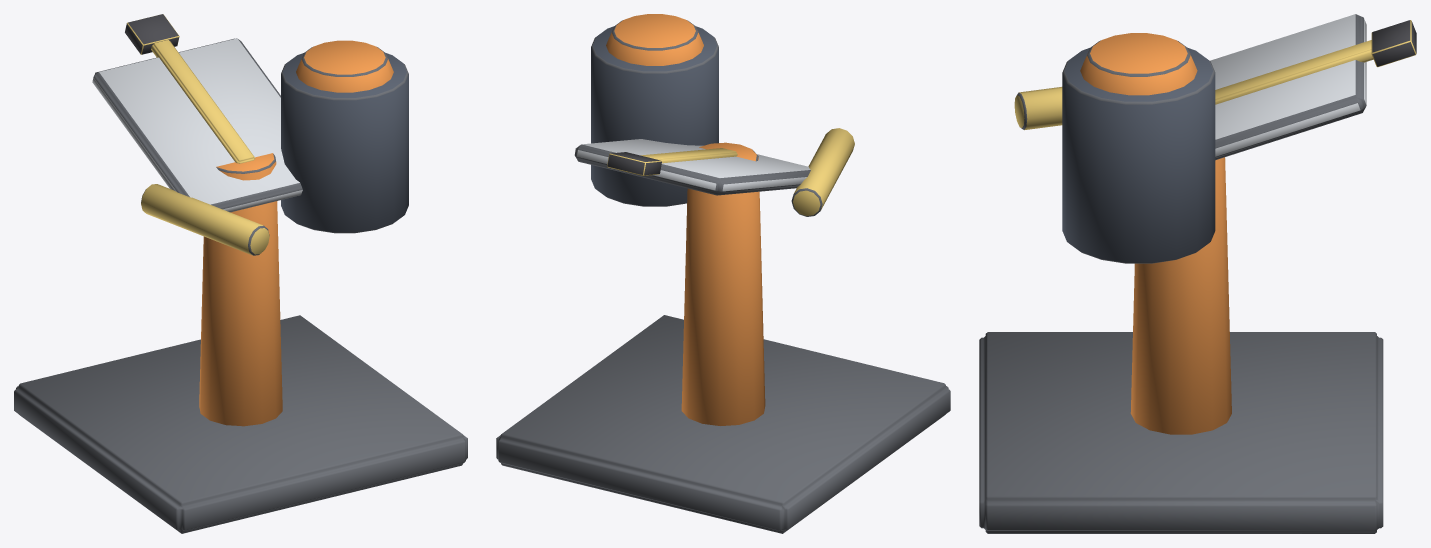
File: OW_Range_ClayThrower.fbx
3 renders of one model, left to right at view 1: azimuth 30°, elevation 25°; view 2: azimuth 150°, elevation 25°; view 3: azimuth 270°, elevation 25°, orthographic. The views are drawn at different scales.
Visible parts, largest first — view 1: ClayThrower_Base, Part_Arm; view 2: ClayThrower_Base, Part_Arm; view 3: ClayThrower_Base, Part_Arm.
Part boxes in pixels (x1,y1,x2,y2): ClayThrower_Base: (14, 38, 467, 533); Part_Arm: (125, 14, 255, 163); ClayThrower_Base: (496, 14, 950, 533); Part_Arm: (607, 148, 737, 175); ClayThrower_Base: (979, 14, 1383, 533); Part_Arm: (1215, 20, 1416, 104).
Bounding box in the file's own units: 95 × 116 × 103.
